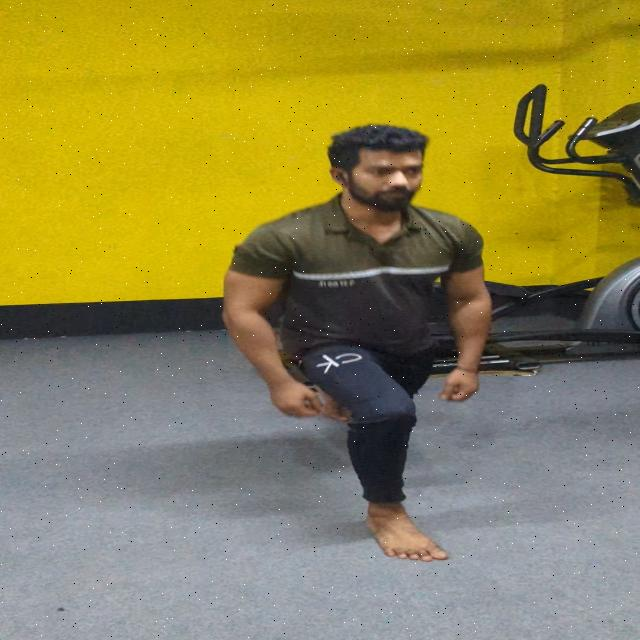Normal_Lunges: (134, 98, 573, 590)
